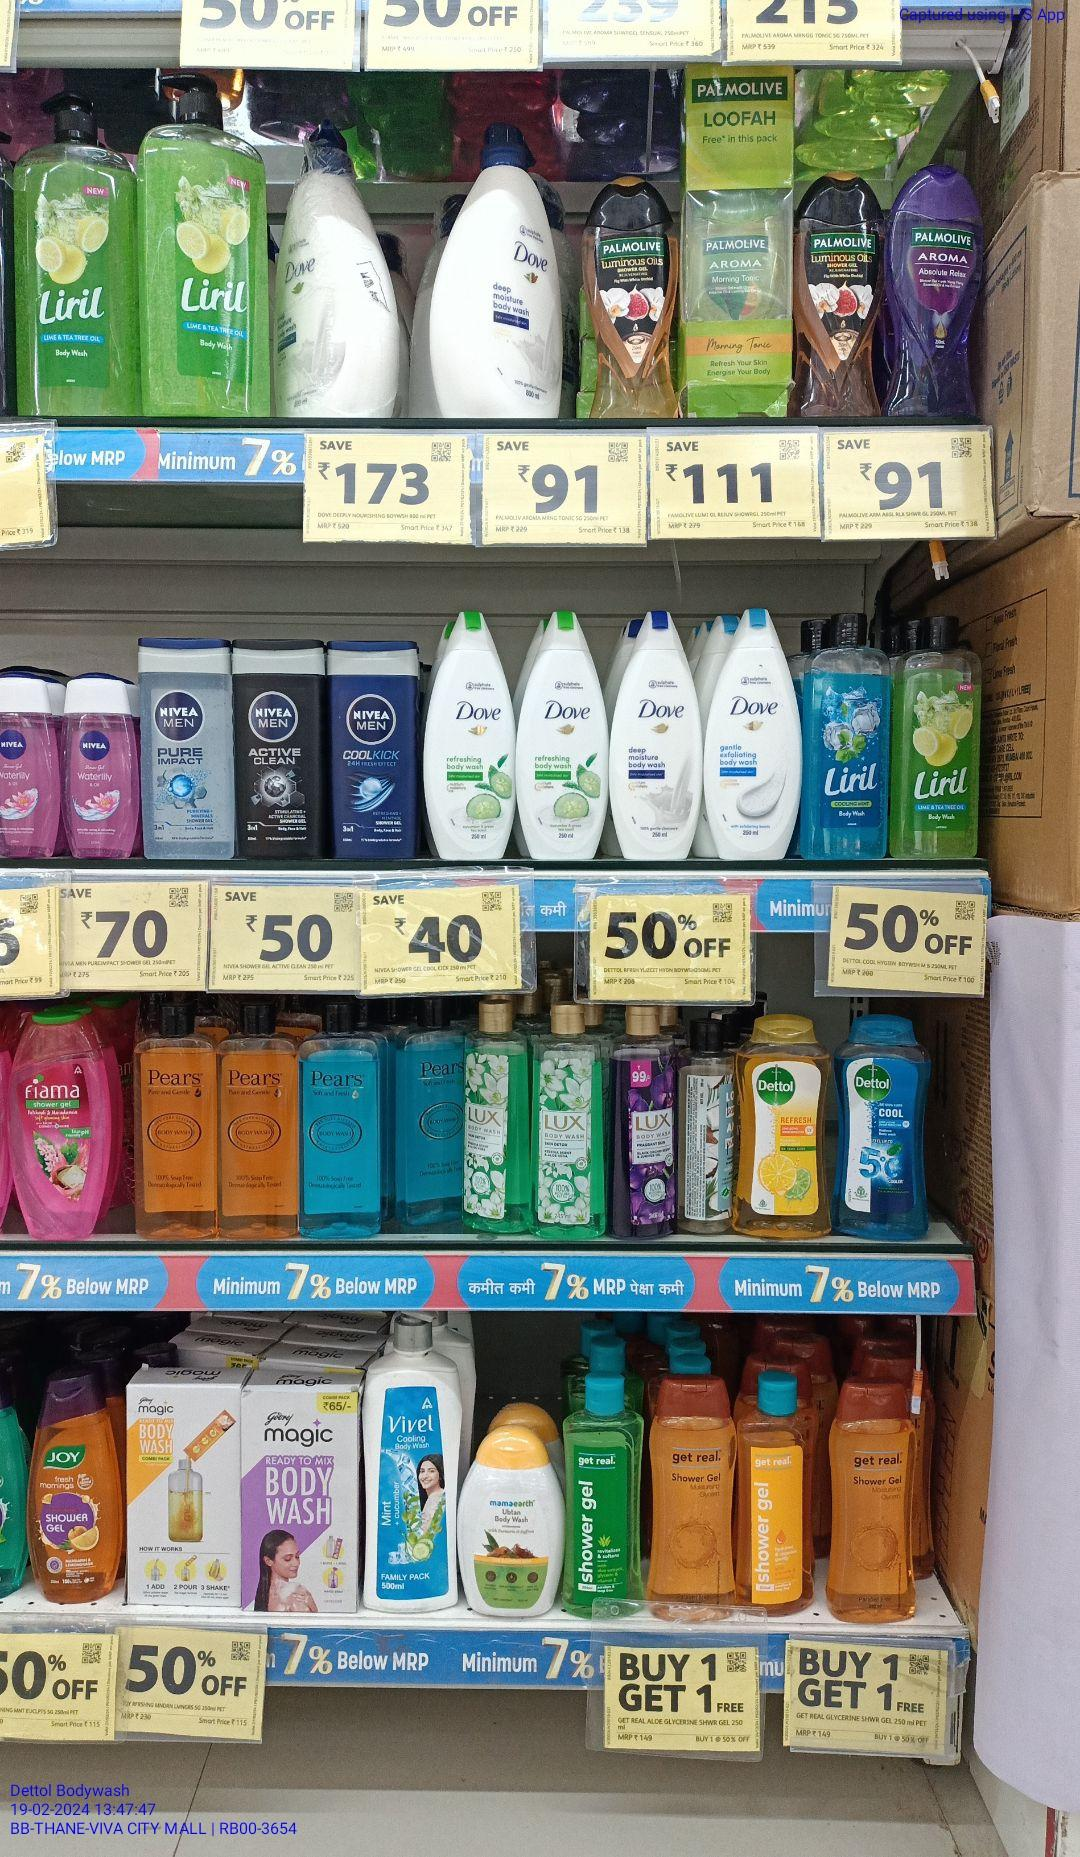Dettol_Bodywash_Cool: (832, 1015, 931, 1243)
Dettol_Bodywash_Refresh: (734, 1008, 829, 1240)
Dove_Deep_Moisture_Body_Wash_250ML: (612, 608, 698, 860)
Dove_Gentle_Exfoliating_Body_Wash_250ML: (702, 601, 798, 857)
Dove_Refreshing_Body_Wash_250ML: (422, 605, 516, 857), (521, 613, 612, 861)
Fiama_Shower_Gel_Patchouli_and_Macadamia_250ML: (15, 1005, 109, 1236)
Get_Real_Shower_Gel_Moisturising_Glycerin_300ML: (737, 1378, 814, 1608)
Joy_Shower_Gel_Mandarin_and_Lemongrass_250ML: (28, 1365, 114, 1606)
Liril_Cooling_Mint_Body_Wash_250ML: (801, 596, 894, 864)
Liril_Lime_and_Tea_Tree_Oil_Body_Wash_250ML: (895, 619, 982, 855)
Lux_Black_Orchid_Scent_and_Juniper_Oil_Body_Wash_245ML: (609, 1002, 674, 1236)
Lux_Body_Wash_Skin_Detox_Freesia_Scent_and_Alove_Vera_245ML: (535, 999, 606, 1239), (465, 1000, 531, 1232)
Nivea_Shower_Gel_Waterlily_and_Oil_250ML: (63, 673, 138, 860), (0, 668, 51, 855)
Palmolive_Aroma_Relax_250ML: (894, 167, 981, 420)
Palmolive_Luminous_Oils_With_White_Orchid_Shower_Gel_250ML: (800, 170, 891, 419), (589, 172, 676, 423)
Pears_Pure_Glycerin_and_Mint_Extracts_Body_Wash_250ML: (297, 1005, 381, 1240)
